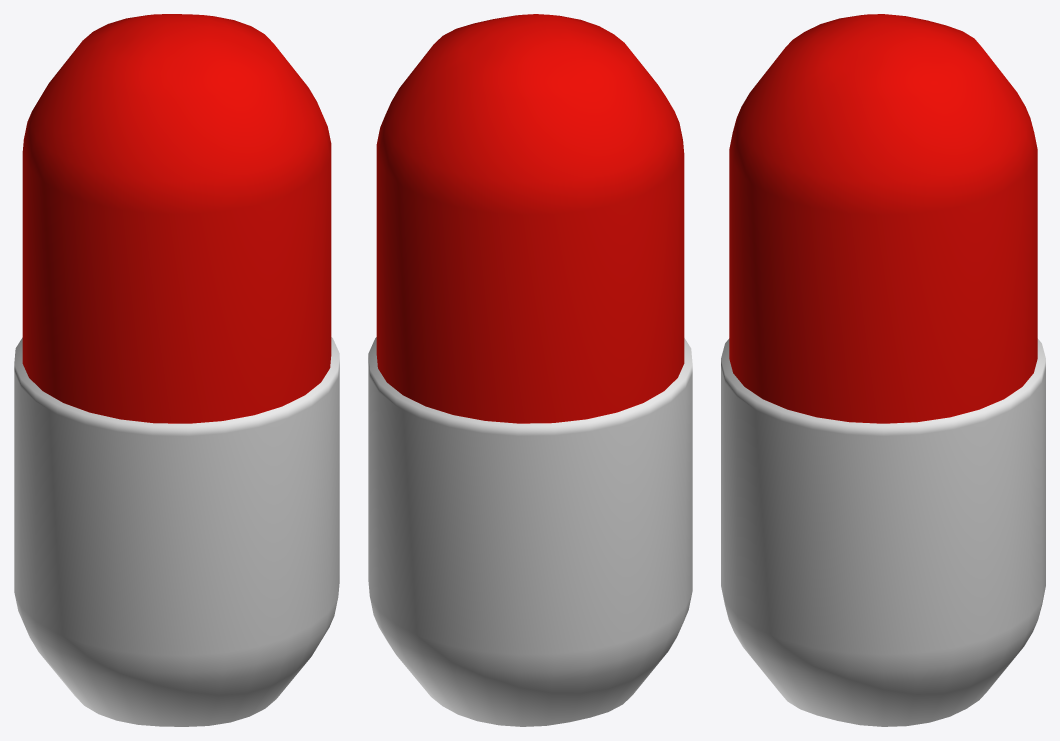
The model's file is redpill.glb.
3 views of the same model, side by side, from view 1: azimuth 30°, elevation 25°; view 2: azimuth 150°, elevation 25°; view 3: azimuth 270°, elevation 25° (orthographic).
Parts seen in each view (by area): view 1: Cylinder; view 2: Cylinder; view 3: Cylinder.
Part boxes in pixels (left/top/right/bottom): Cylinder: left=14, top=14, right=339, bottom=726; Cylinder: left=368, top=14, right=692, bottom=726; Cylinder: left=721, top=14, right=1045, bottom=726.
Bounding box in the file's own units: 0.15 × 0.3452 × 0.15.
